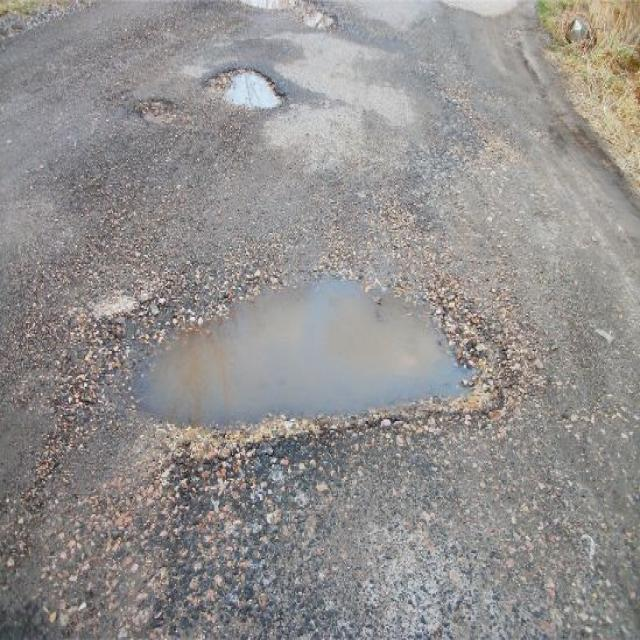pothole: (118, 259, 494, 432), (210, 61, 286, 110)
